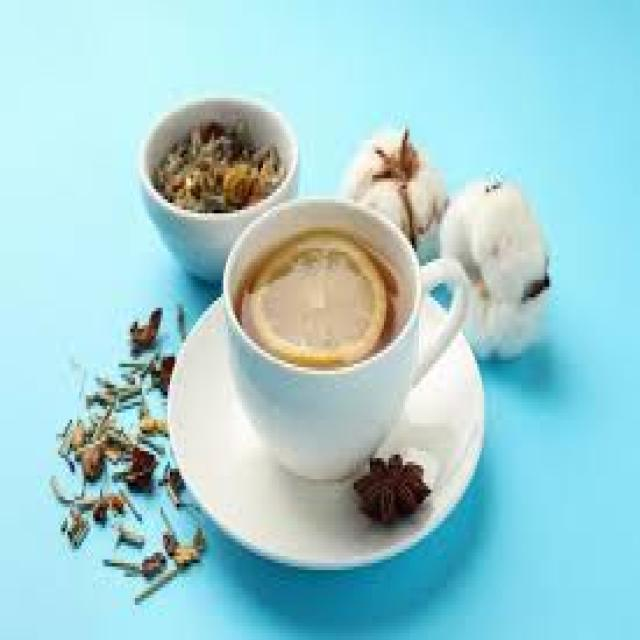taza: (213, 183, 484, 492)
